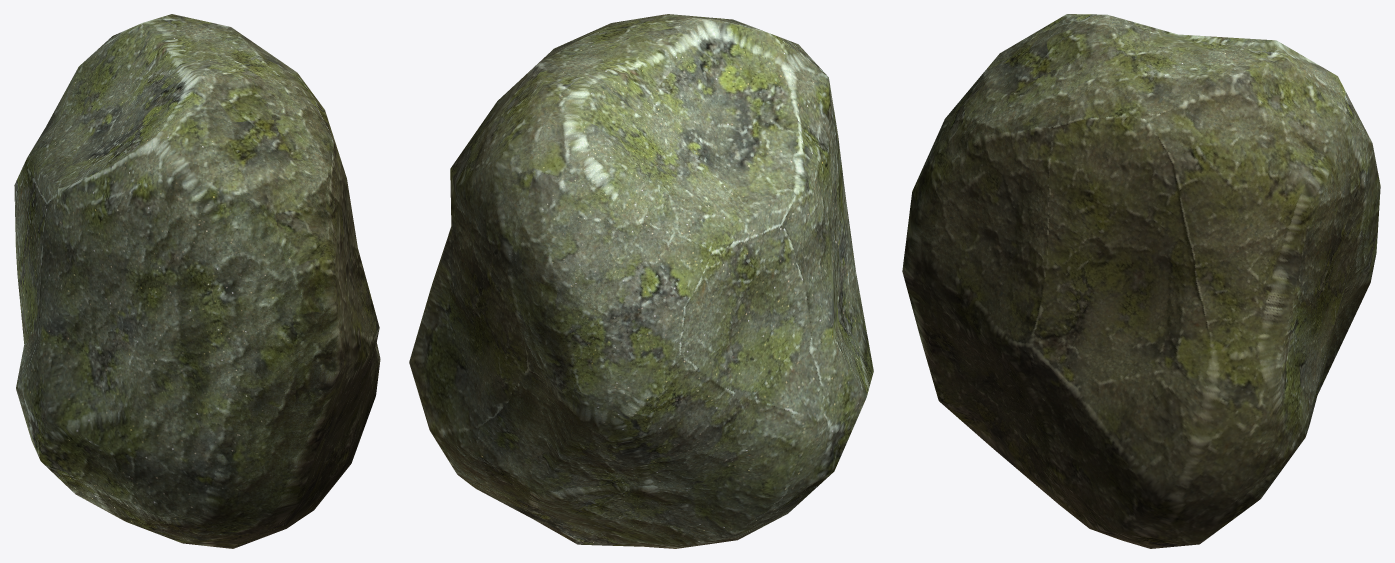
File: rock_1.fbx
3 views of the same model, side by side, from view 1: azimuth 30°, elevation 25°; view 2: azimuth 150°, elevation 25°; view 3: azimuth 270°, elevation 25° (orthographic). The views are drawn at different scales.
Visible parts, largest first — view 1: rock_1; view 2: rock_1; view 3: rock_1.
Part boxes in pixels (x1=…): rock_1: x1=14, y1=14, x2=380, y2=548; rock_1: x1=409, y1=14, x2=873, y2=548; rock_1: x1=902, y1=14, x2=1380, y2=548.
Size of the model in its own units: 91.95 by 116 by 103.
